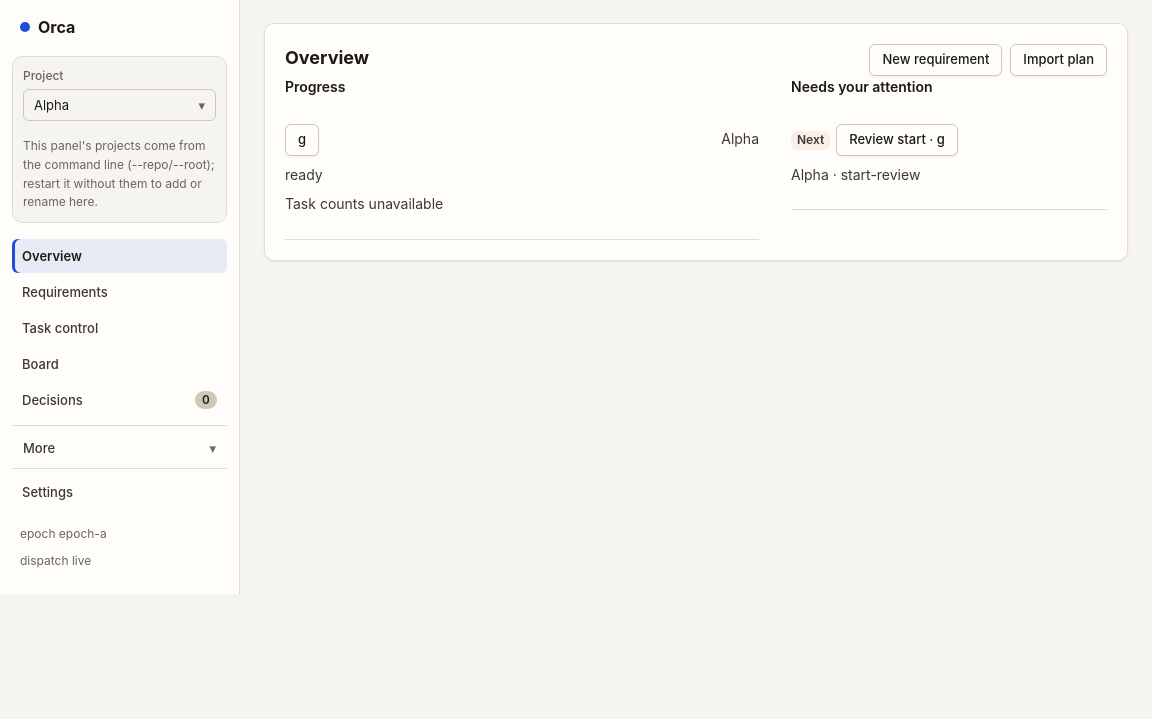
Test: Overview progress opens its distinct owner region without commands
The width and height of the screenshot is (1152, 719).
Click the button "g": (302, 140) [285,124,319,156]
(page scrolled)
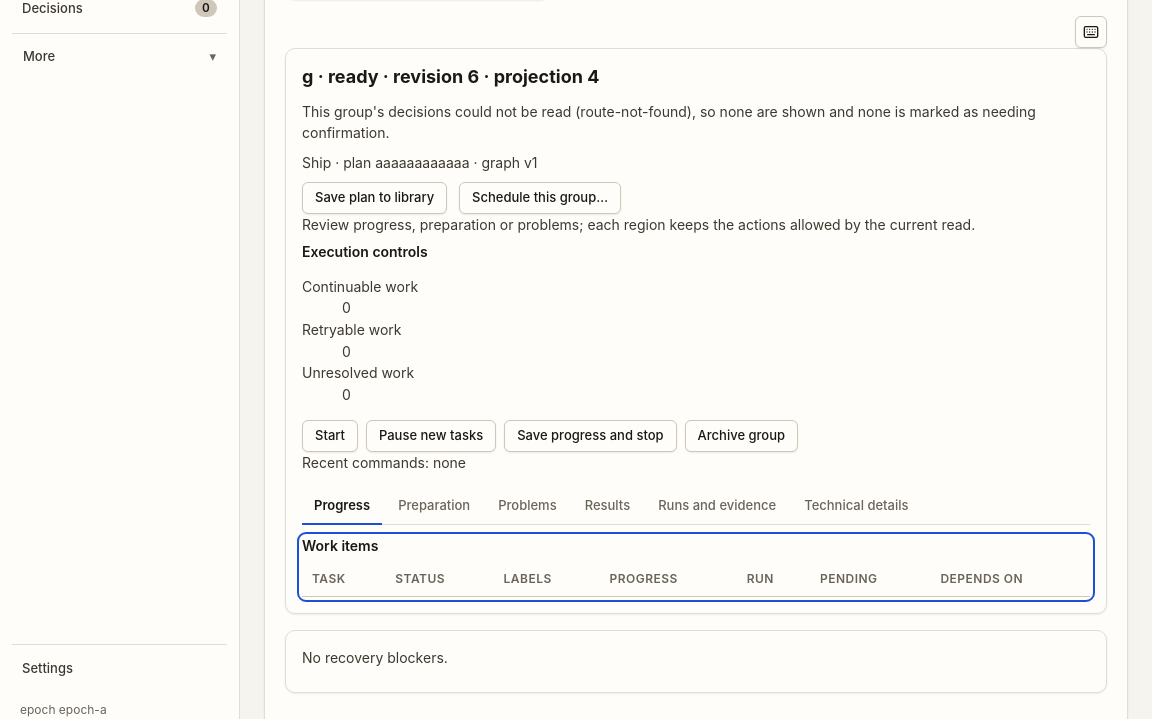
Result: the element named "Control group g" is shown at [285,48,1107,614]
Result: the tab "Progress" is shown at [302,489,382,525]
